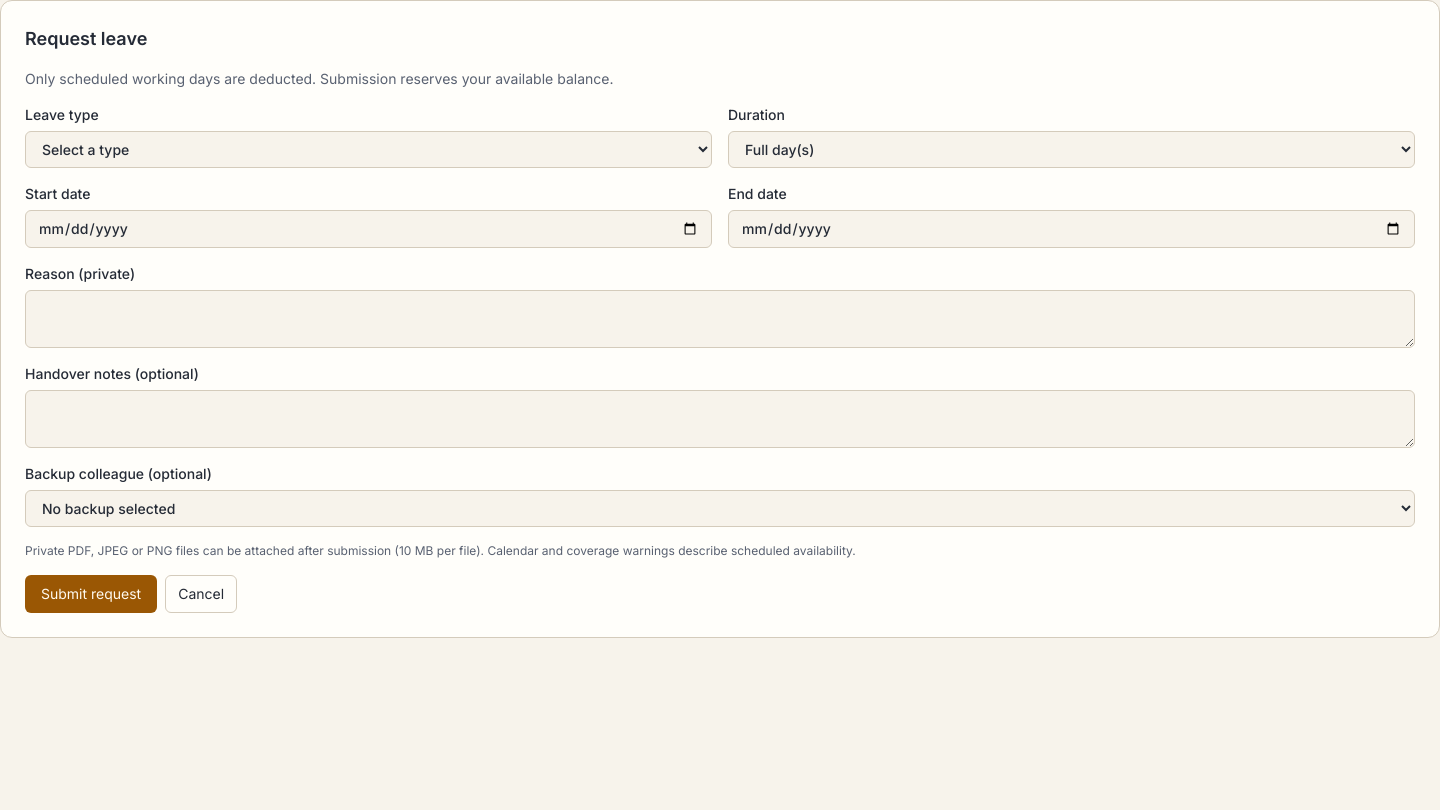
Test: sends a half day with a past-date explanation, retains failed draft and reuses retry key
The width and height of the screenshot is (1440, 810).
Later steps or results of the test are not shown.
Step 1. Select "Medical leave" in the dropdown labelled "Leave type" → (368, 150), box [25,131,712,168]
Step 2. Type "2020-01-02" into the date field labelled "Start date" → (368, 229), box [25,210,712,248]
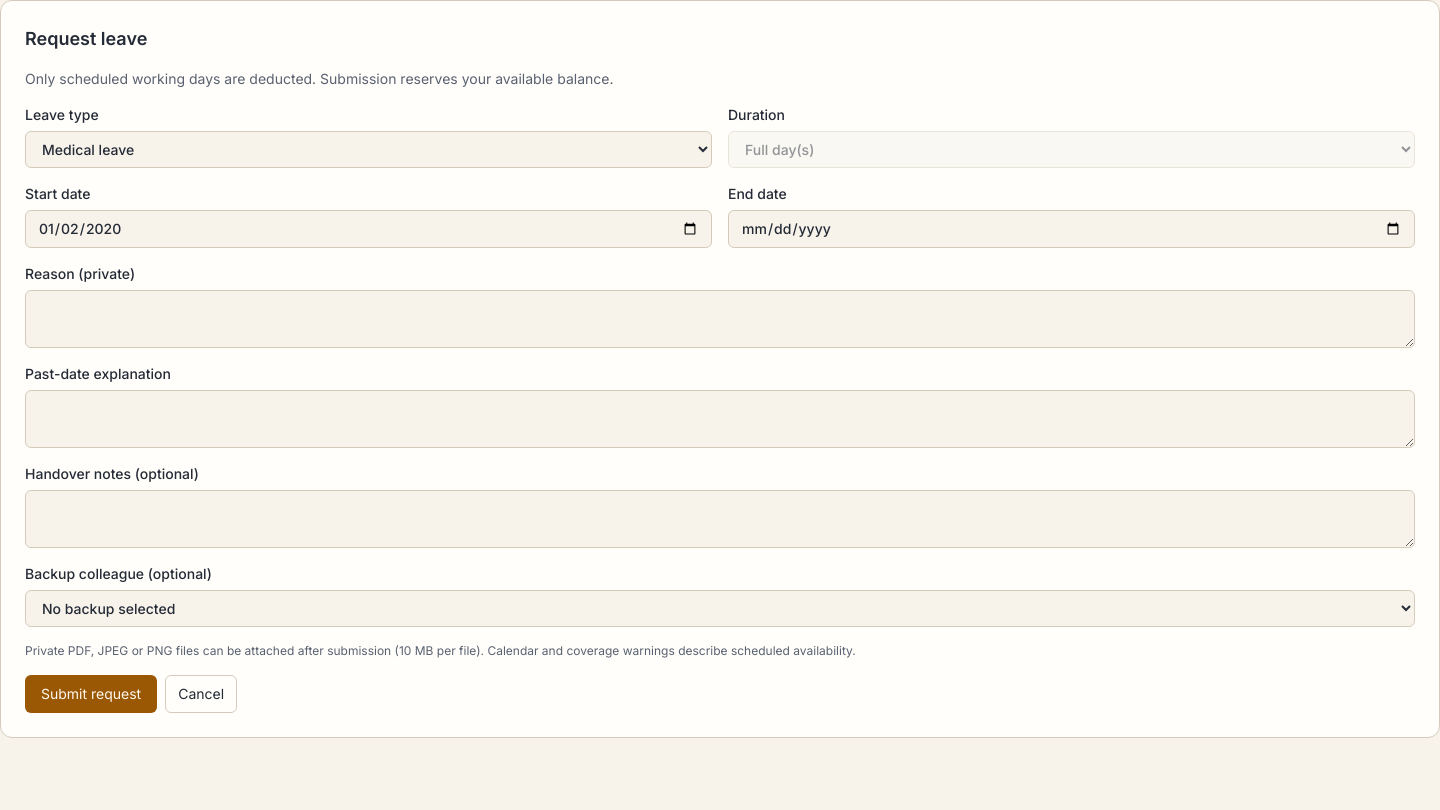
Step 3. Type "2020-01-02" into the date field labelled "End date" → (1072, 229), box [728,210,1415,248]
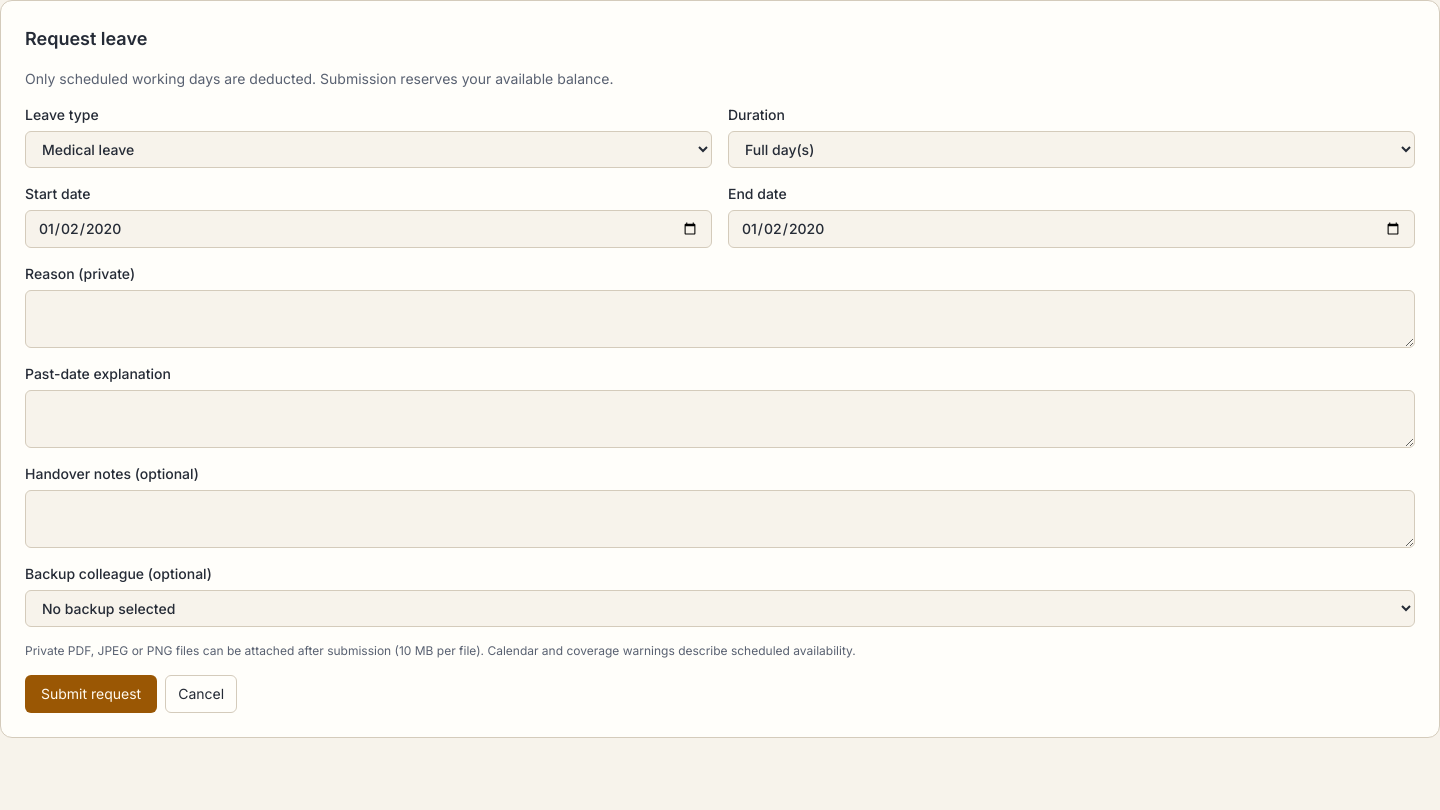
Step 4. Select "Second half" in the dropdown labelled "Duration" → (1072, 150), box [728,131,1415,168]
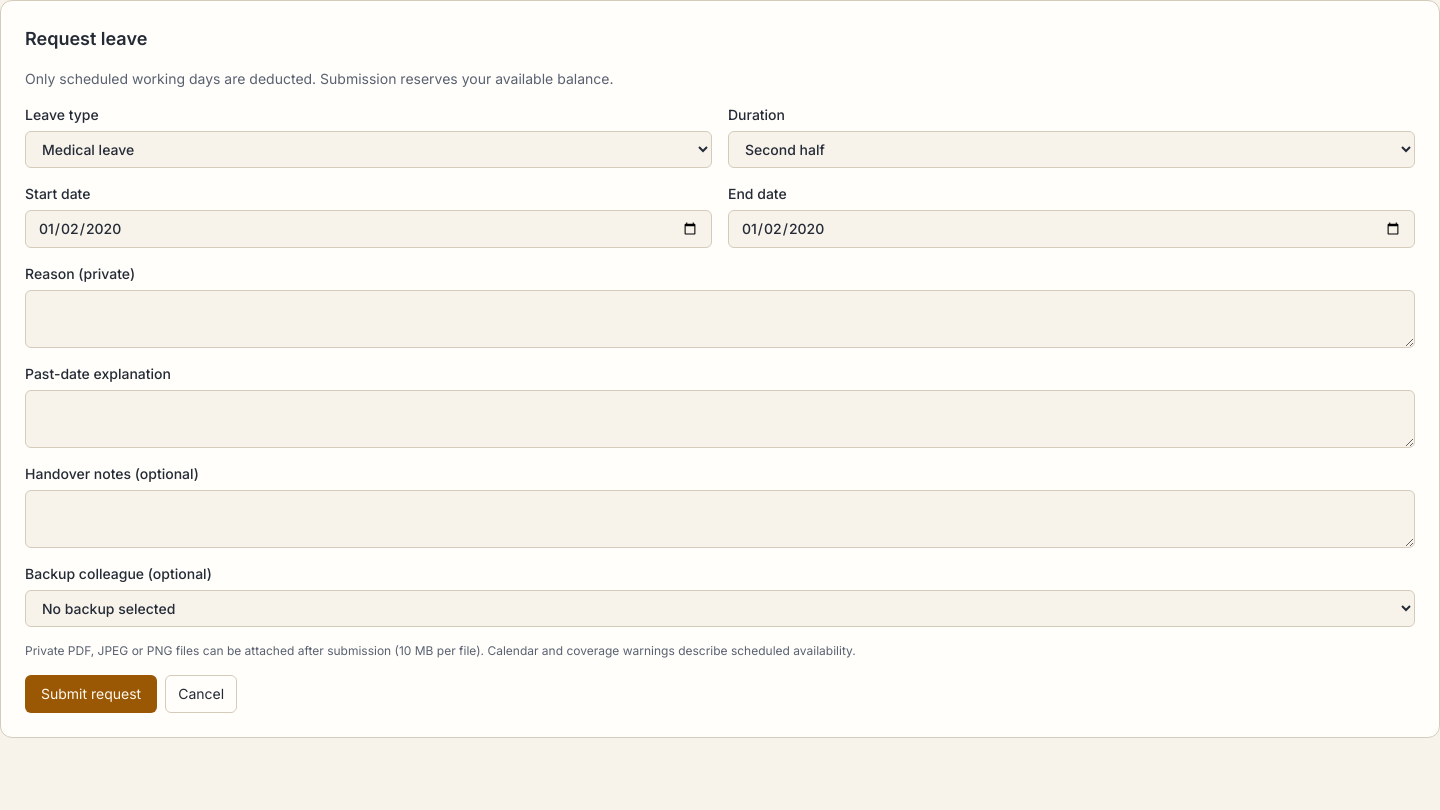
Step 5. Type "Appointment" into the text box labelled "Reason (private)" → (720, 319), box [25,290,1415,348]
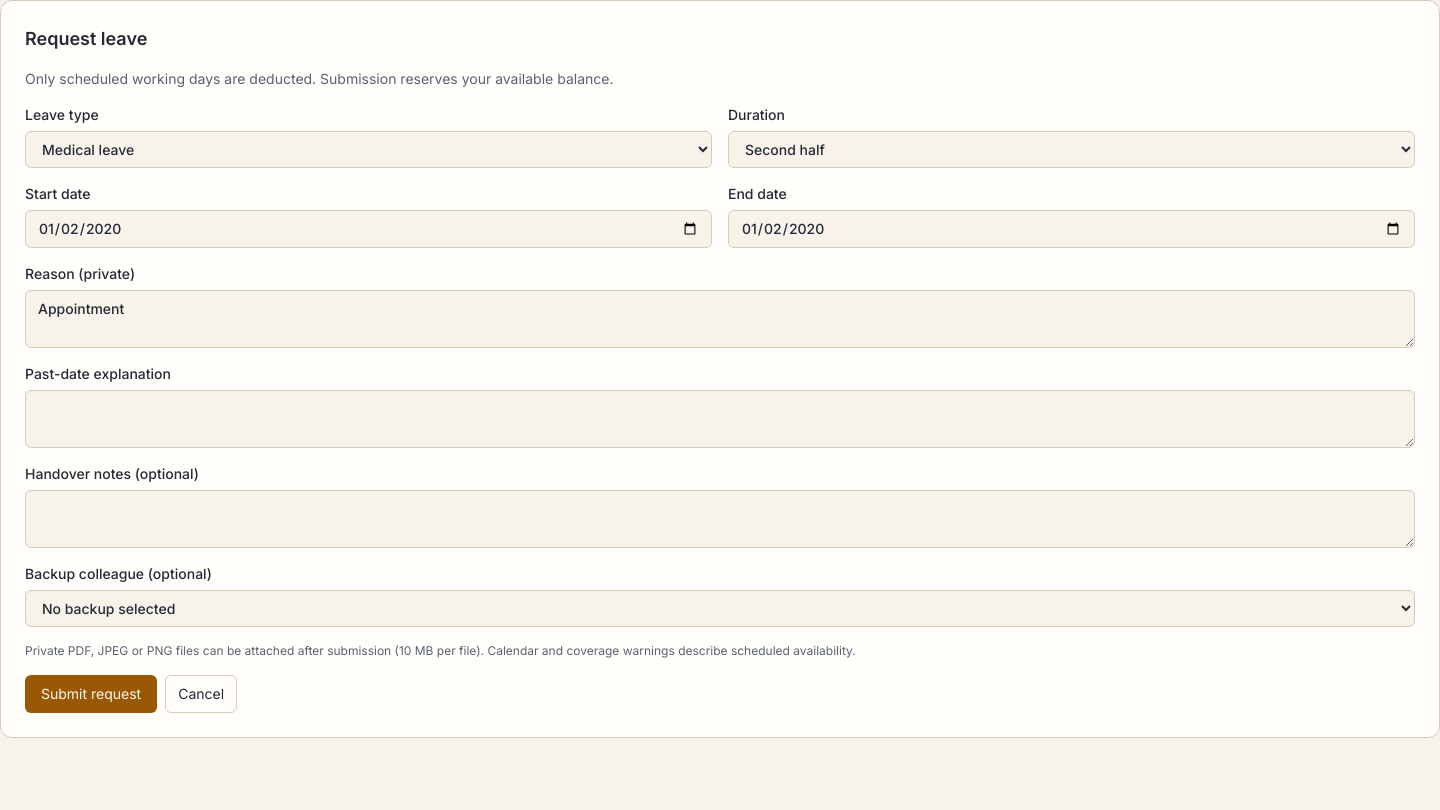
Step 6. Type "Retrospective correction" into the text box labelled "Past-date explanation" → (720, 419), box [25,390,1415,448]
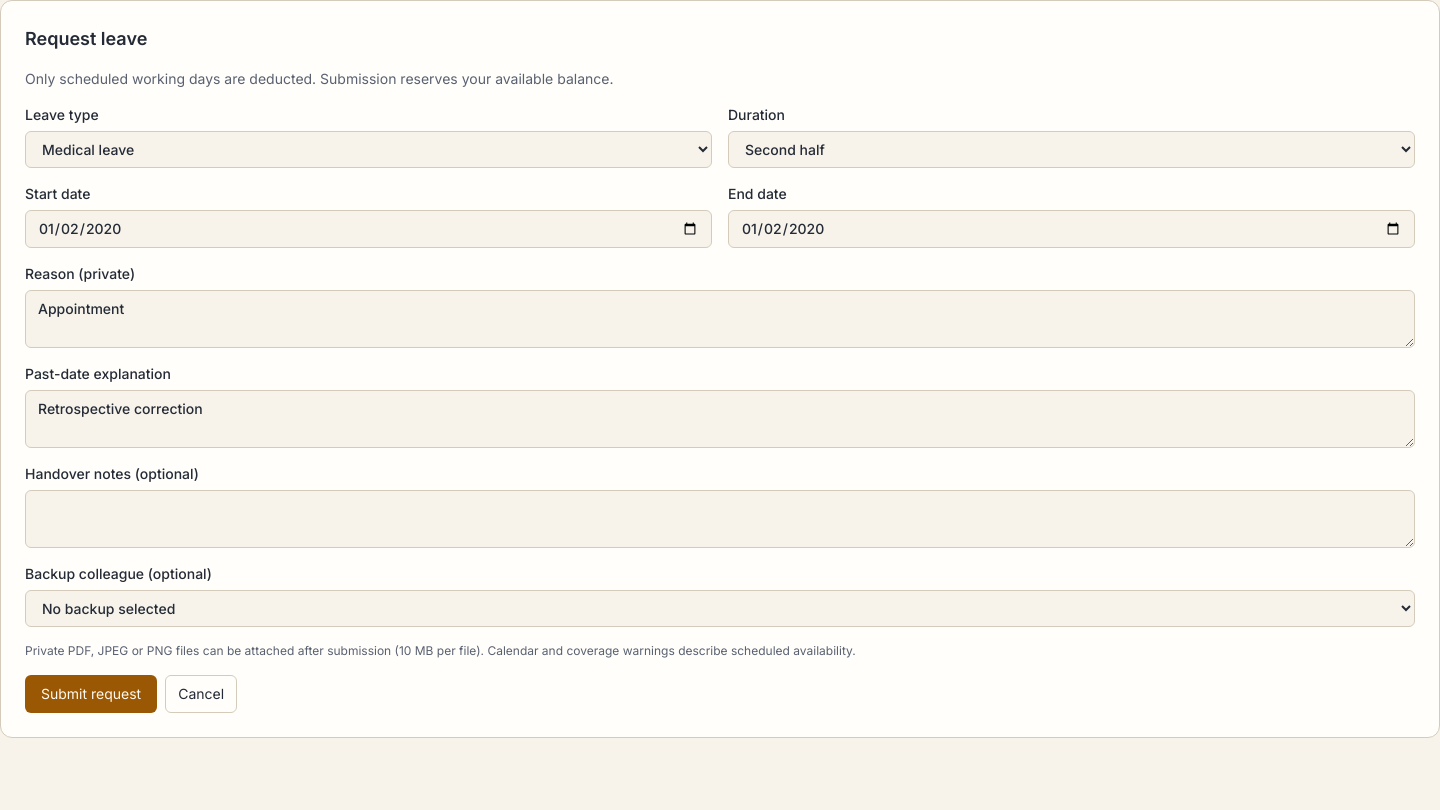
Step 7. Click the button "Submit request" → (91, 694), box [25,675,157,713]
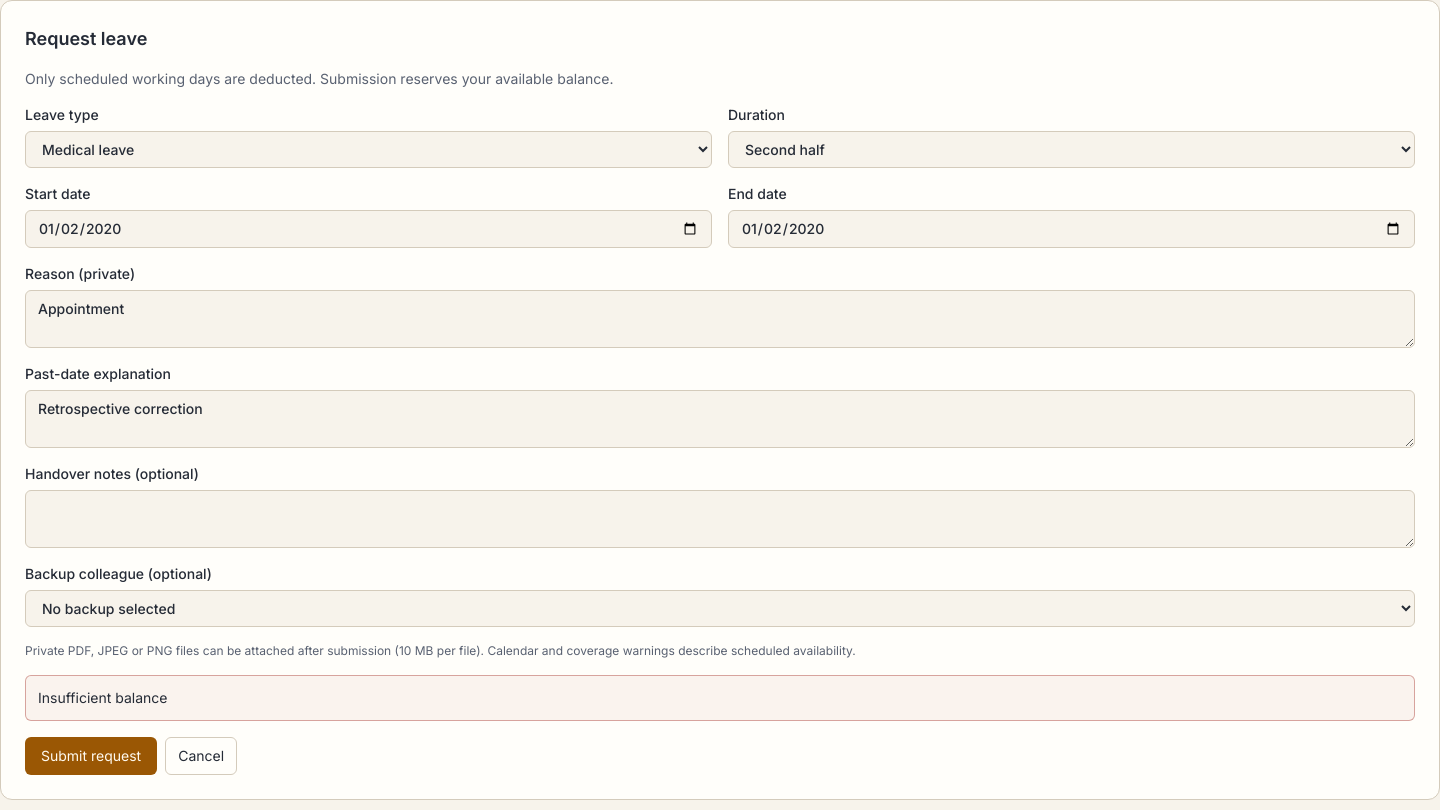
expect the text "Insufficient balance" is shown: met, box [38,689,168,706]
